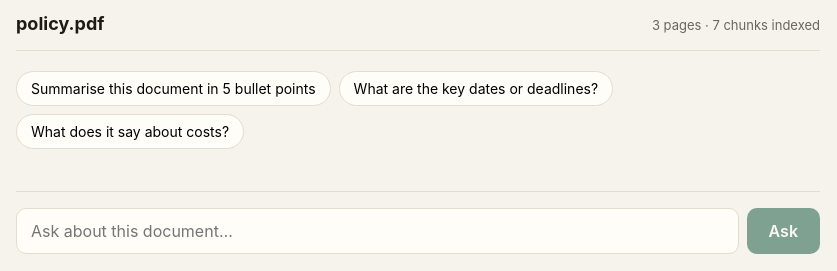
Test: ChatPanel › shows the API problem detail when a request fails
Click the button "What are the key dates or deadlines?" at (476, 88), box [339, 71, 613, 106]
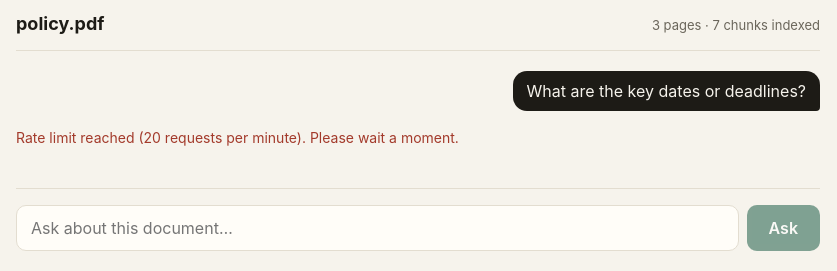
expect the message shows "Rate limit reached": met, box [16, 129, 459, 146]
